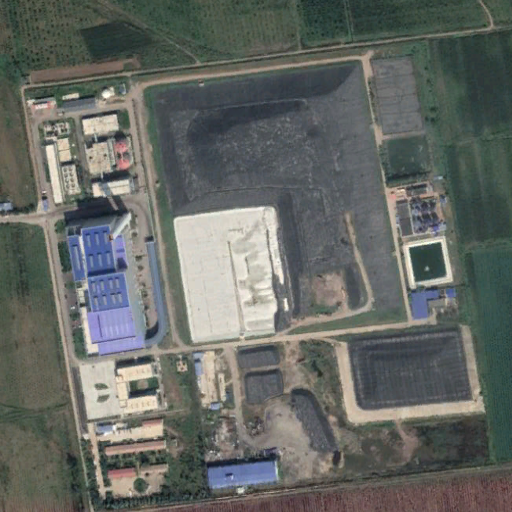lf: (142, 58, 412, 340), (233, 346, 339, 457), (350, 332, 483, 413)
